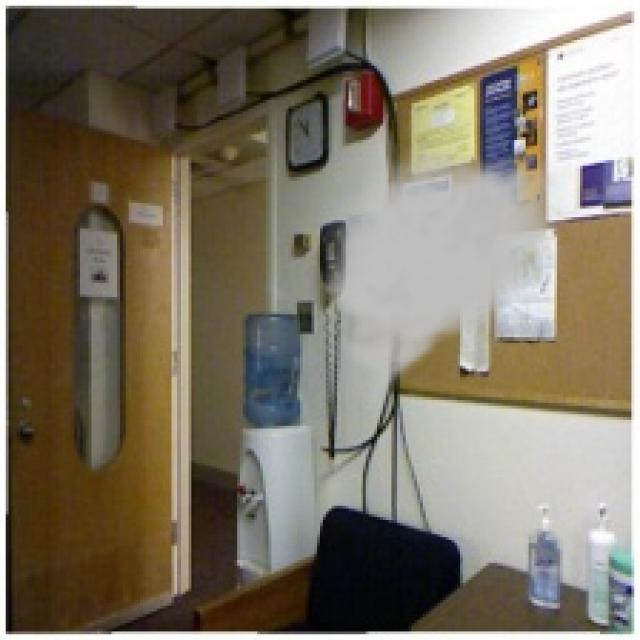smoke: (314, 143, 572, 426)
